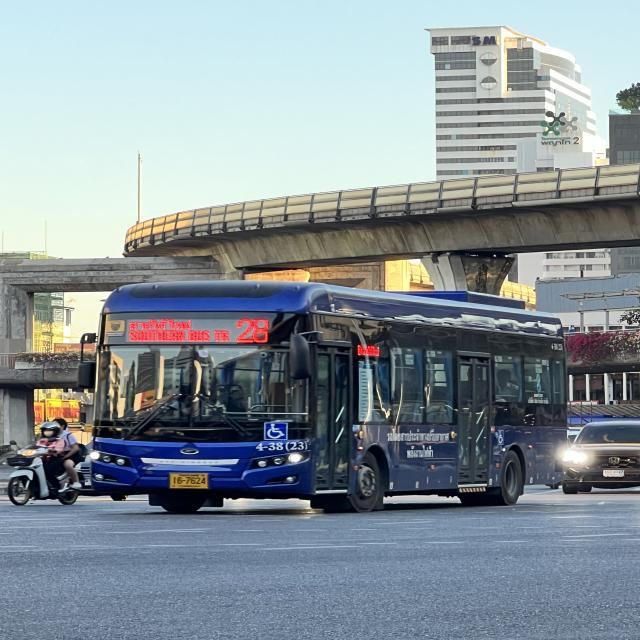Bus Line Number: (232, 316, 272, 344)
Bus Side Number: (254, 440, 308, 451)
Destination Sign: (124, 317, 232, 348)
TSB-Bus: (86, 280, 569, 514)
